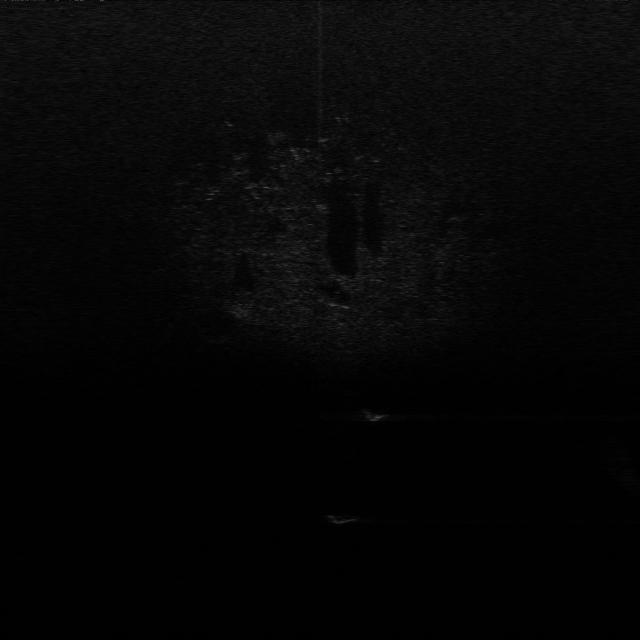cube: (328, 505, 363, 528)
square cage: (364, 406, 400, 425)
